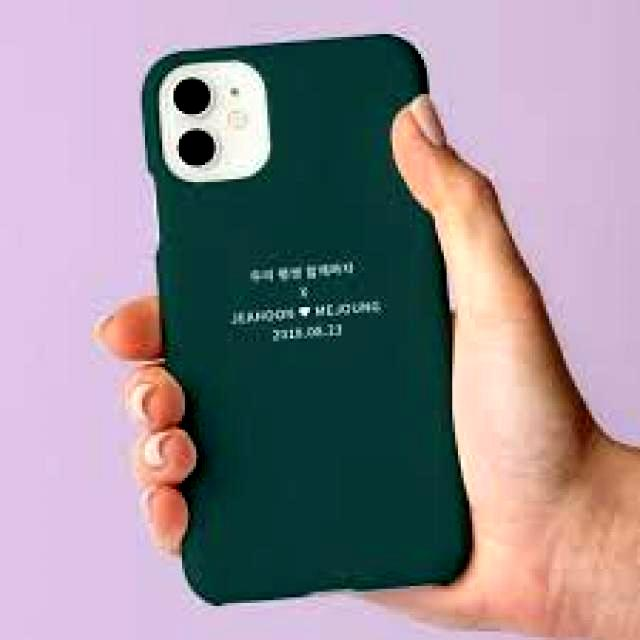lens_back: (159, 64, 272, 179)
phone: (139, 32, 477, 608)
